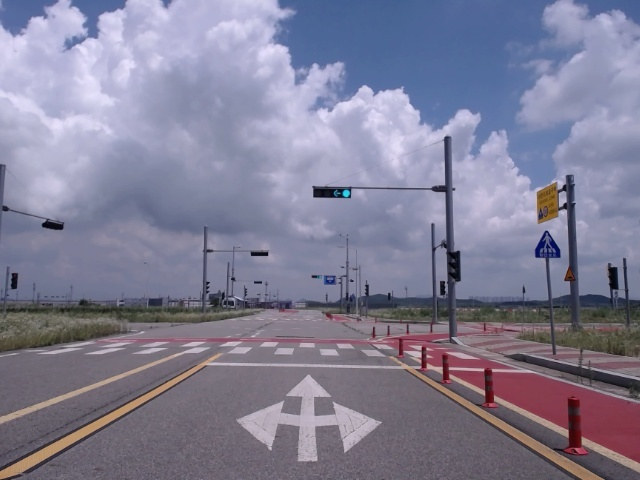all_green_4: (316, 186, 352, 199)
